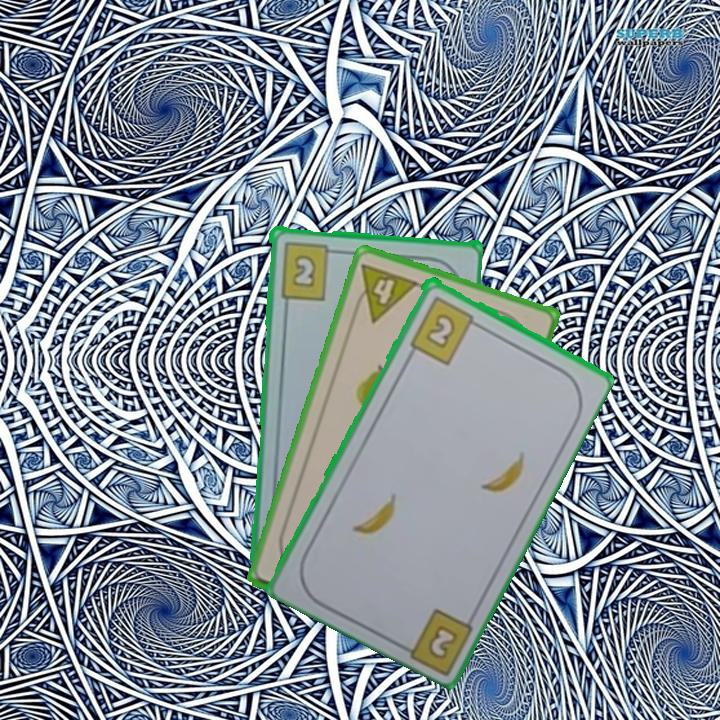2b: (406, 292, 484, 367), (276, 238, 341, 302), (427, 624, 457, 659)
4p: (348, 259, 422, 325)
